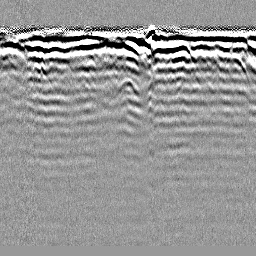cavity: (116, 75, 139, 96)
